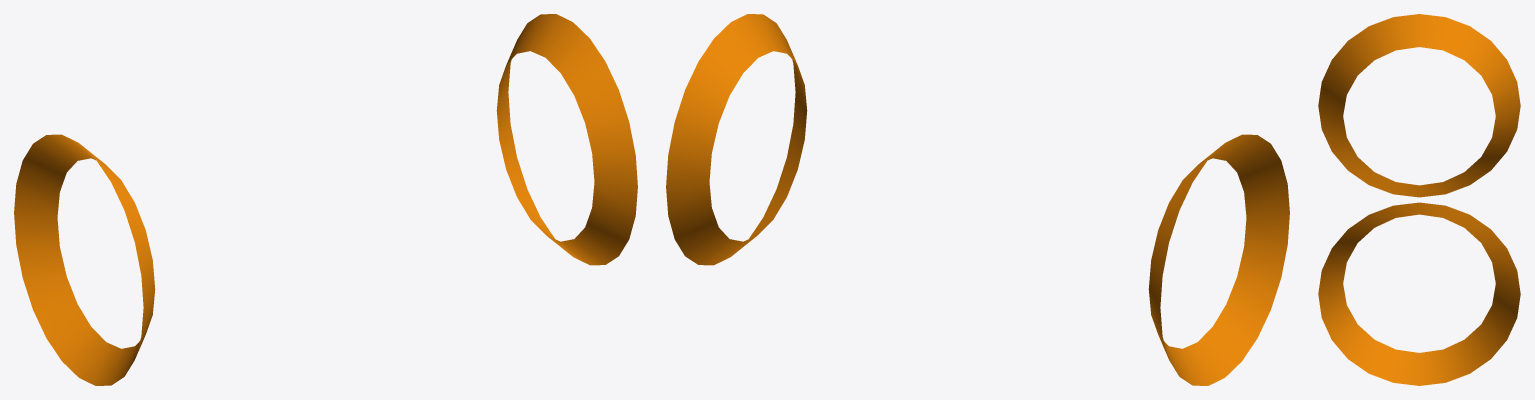
3 renders of one model, left to right at view 1: azimuth 30°, elevation 25°; view 2: azimuth 150°, elevation 25°; view 3: azimuth 270°, elevation 25°, orthographic. The views are drawn at different scales.
Size of the model in its own units: 0.26 by 0.118 by 0.118.
